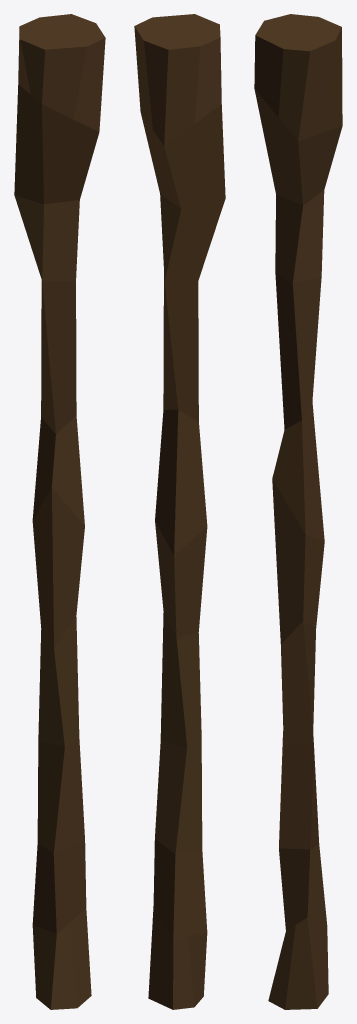
File: SlavaStick.fbx
3 renders of one model, left to right at view 1: azimuth 30°, elevation 25°; view 2: azimuth 210°, elevation 25°; view 3: azimuth 330°, elevation 25°, orthographic.
Parts seen in each view (by area): view 1: Cube; view 2: Cube; view 3: Cube.
Boxes of the visible parts, left/top/right/bottom form: Cube: left=14, top=14, right=105, bottom=1009; Cube: left=134, top=14, right=225, bottom=1009; Cube: left=254, top=14, right=342, bottom=1009.
Bounding box in the file's own units: 15.51 × 194 × 15.45.
